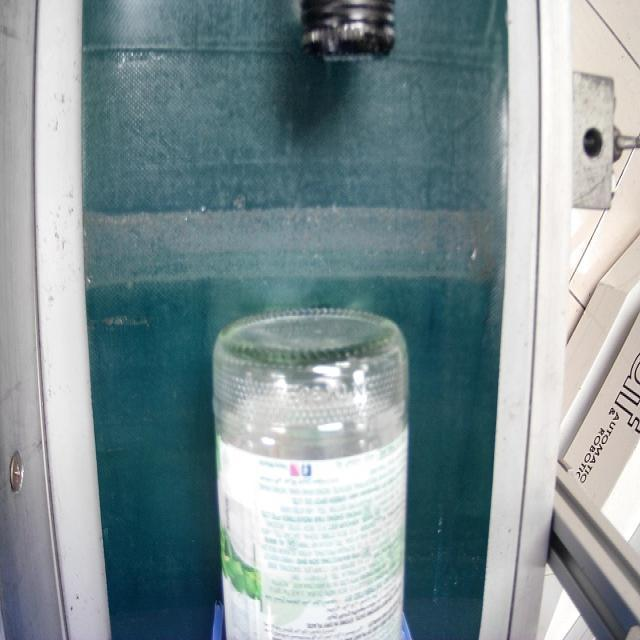Glass: (207, 309, 412, 640)
